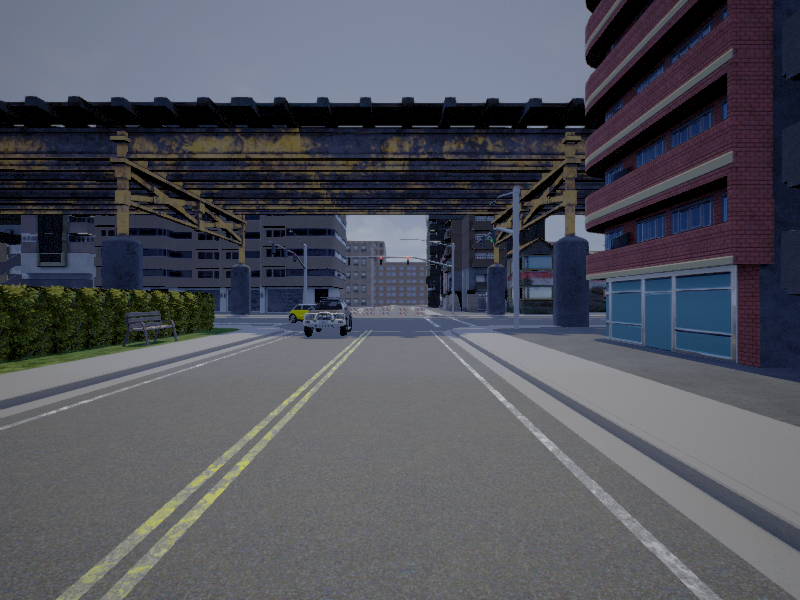Benign: (303, 301, 353, 335), (291, 305, 318, 322)
